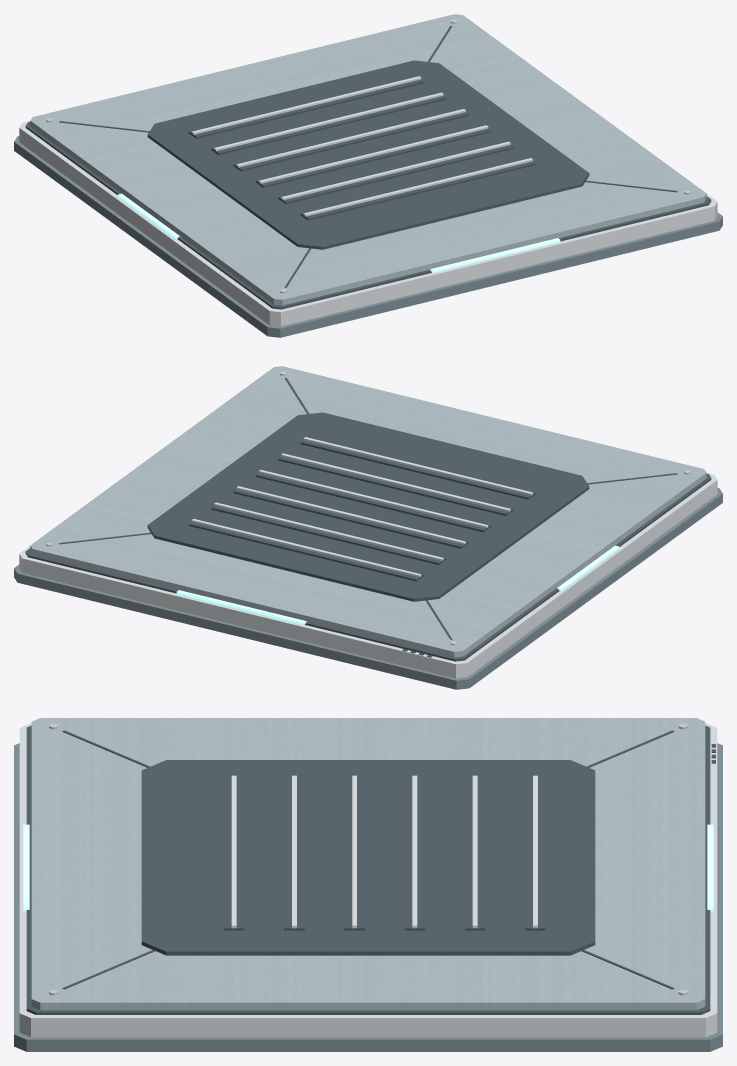
Rendered from m02-metal-service-vent.glb.
3 views of the same model, one above another, from view 1: azimuth 30°, elevation 25°; view 2: azimuth 150°, elevation 25°; view 3: azimuth 270°, elevation 25° (orthographic). The views are drawn at different scales.
Visible parts, largest first — view 1: service-vent/003, service-vent/020, service-vent/001, service-vent/000, service-vent/002, service-vent/023, service-vent/031, service-vent/025, service-vent/021, service-vent/029, service-vent/027, service-vent/022 (+6 smaller); view 2: service-vent/003, service-vent/020, service-vent/001, service-vent/000, service-vent/002, service-vent/023, service-vent/025, service-vent/029, service-vent/031, service-vent/021, service-vent/027, service-vent/026 (+6 smaller); view 3: service-vent/003, service-vent/020, service-vent/001, service-vent/000, service-vent/002, service-vent/025, service-vent/023, service-vent/027, service-vent/031, service-vent/021, service-vent/029, service-vent/024 (+7 smaller).
Part boxes in pixels (x1=…): service-vent/003: x1=30, y1=14, x2=706, y2=305; service-vent/020: x1=147, y1=60, x2=589, y2=249; service-vent/001: x1=19, y1=121, x2=717, y2=326; service-vent/000: x1=14, y1=136, x2=722, y2=337; service-vent/002: x1=25, y1=121, x2=711, y2=309; service-vent/023: x1=211, y1=92, x2=446, y2=154; service-vent/031: x1=300, y1=157, x2=535, y2=220; service-vent/025: x1=233, y1=108, x2=468, y2=171; service-vent/021: x1=189, y1=76, x2=424, y2=138; service-vent/029: x1=278, y1=141, x2=513, y2=204; service-vent/027: x1=256, y1=125, x2=491, y2=187; service-vent/022: x1=191, y1=76, x2=421, y2=134; service-vent/003: x1=30, y1=366, x2=706, y2=657; service-vent/020: x1=147, y1=412, x2=589, y2=601; service-vent/001: x1=19, y1=473, x2=717, y2=678; service-vent/000: x1=14, y1=488, x2=722, y2=689; service-vent/002: x1=25, y1=473, x2=711, y2=661; service-vent/023: x1=211, y1=502, x2=446, y2=564; service-vent/025: x1=233, y1=486, x2=468, y2=548; service-vent/029: x1=278, y1=453, x2=513, y2=515; service-vent/031: x1=300, y1=436, x2=535, y2=499; service-vent/021: x1=189, y1=518, x2=424, y2=581; service-vent/027: x1=256, y1=469, x2=491, y2=532; service-vent/026: x1=236, y1=486, x2=465, y2=544; service-vent/003: x1=31, y1=718, x2=705, y2=1010; service-vent/020: x1=141, y1=760, x2=595, y2=955; service-vent/001: x1=19, y1=723, x2=717, y2=1037; service-vent/000: x1=14, y1=743, x2=722, y2=1051; service-vent/002: x1=26, y1=725, x2=710, y2=1014; service-vent/025: x1=404, y1=778, x2=425, y2=930; service-vent/023: x1=465, y1=778, x2=485, y2=930; service-vent/027: x1=344, y1=778, x2=364, y2=930; service-vent/031: x1=224, y1=778, x2=244, y2=930; service-vent/021: x1=525, y1=778, x2=545, y2=930; service-vent/029: x1=284, y1=778, x2=304, y2=930; service-vent/024: x1=472, y1=775, x2=477, y2=928.
Size of the model in its own units: 1 by 0.08 by 1.
6 materials, 1 textured.
